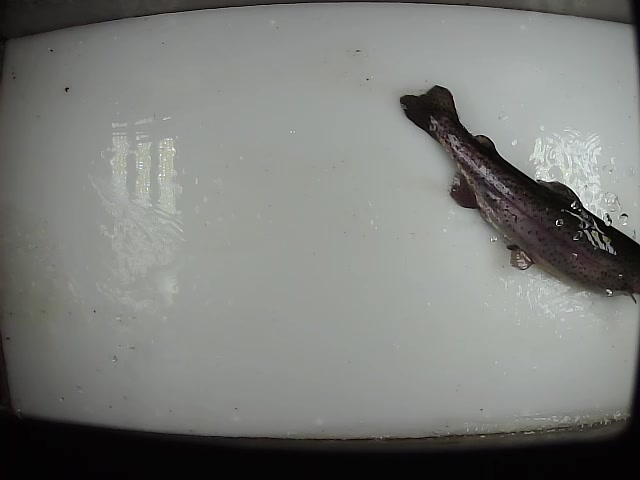fish: (395, 83, 640, 305)
